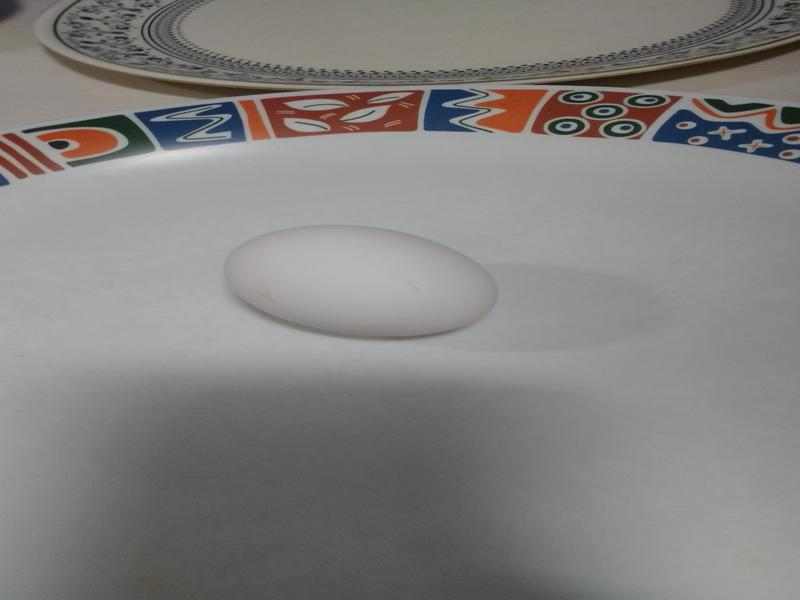egg: (224, 222, 499, 338)
